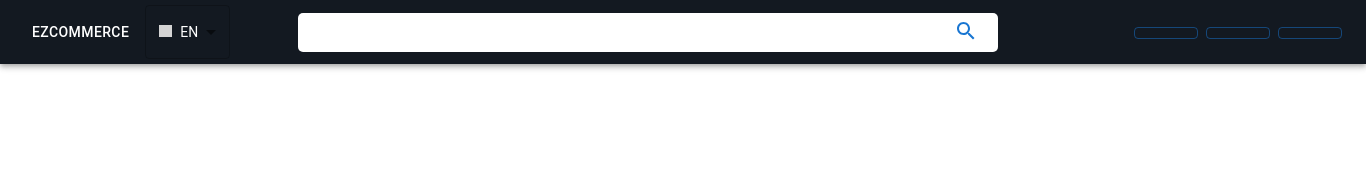
Test: Test locale change button to es and back to en
Press the mouse on the dropdown "EN": (179,32) [159,24,198,40]
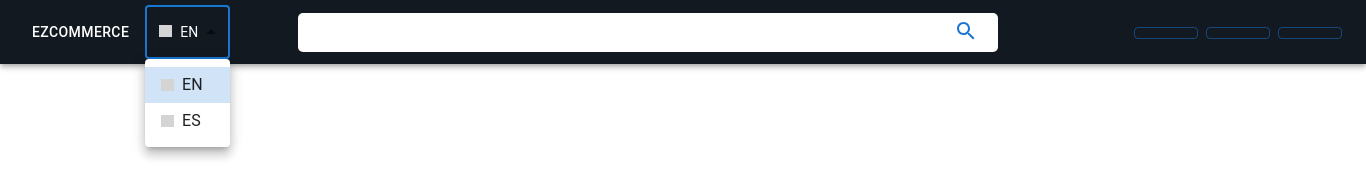
Click the option "ES": (181,120) [161,111,201,130]
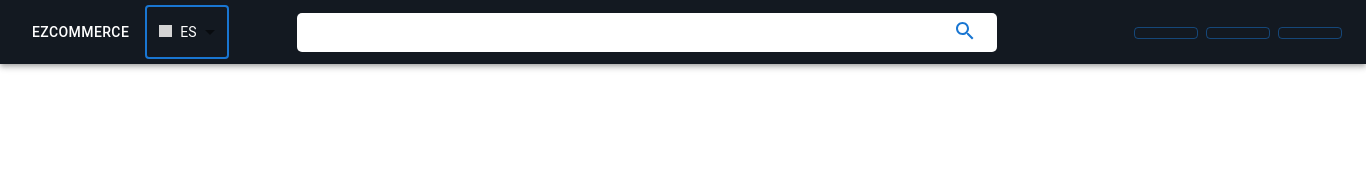
Expected: the dropdown "ES" is shown
Press the mouse on the dropdown "ES": (178,32) [159,24,197,40]
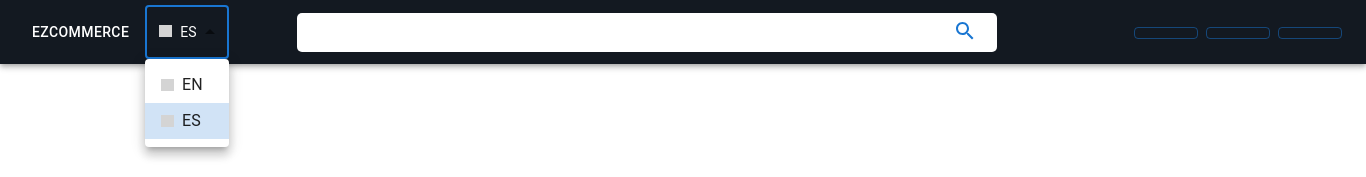
Click the option "EN": (182,84) [161,75,203,94]
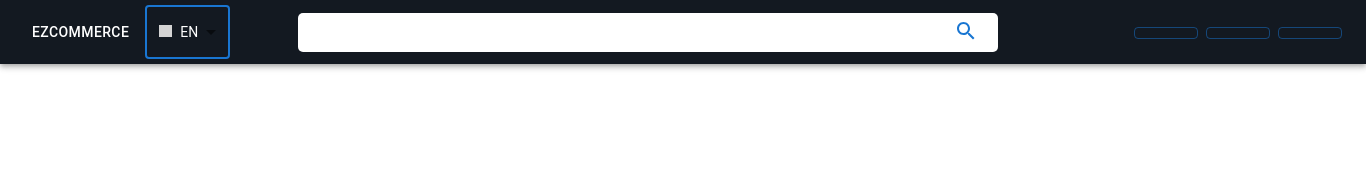
Expected: the dropdown "EN" is shown, [159,24,198,40]
